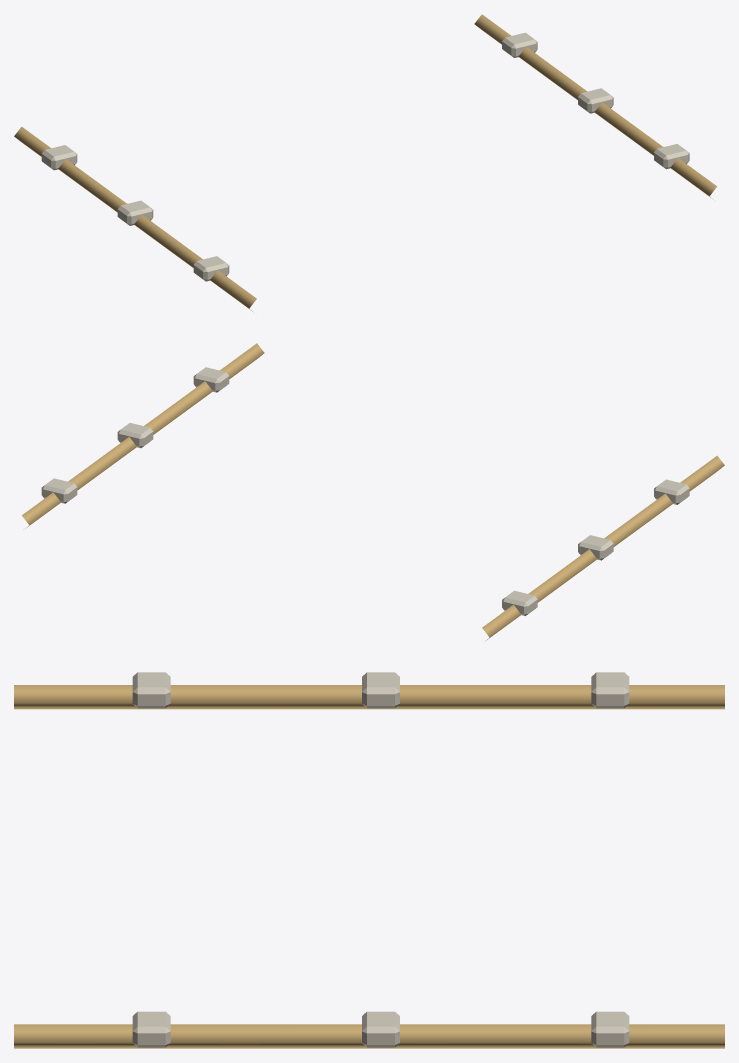
File: m09_level_1.glb
3 renders of one model, top to bottom at view 1: azimuth 30°, elevation 25°; view 2: azimuth 150°, elevation 25°; view 3: azimuth 270°, elevation 25°, orthographic. The views are drawn at different scales.
Parts seen in each view (by area): view 1: m09_level_1; view 2: m09_level_1; view 3: m09_level_1.
Boxes of the visible parts, bbox=[...] form: m09_level_1: bbox=[14, 14, 716, 311]; m09_level_1: bbox=[22, 343, 724, 640]; m09_level_1: bbox=[14, 672, 724, 1048].
Size of the model in its own units: 2.22 by 0.085 by 1.86.
